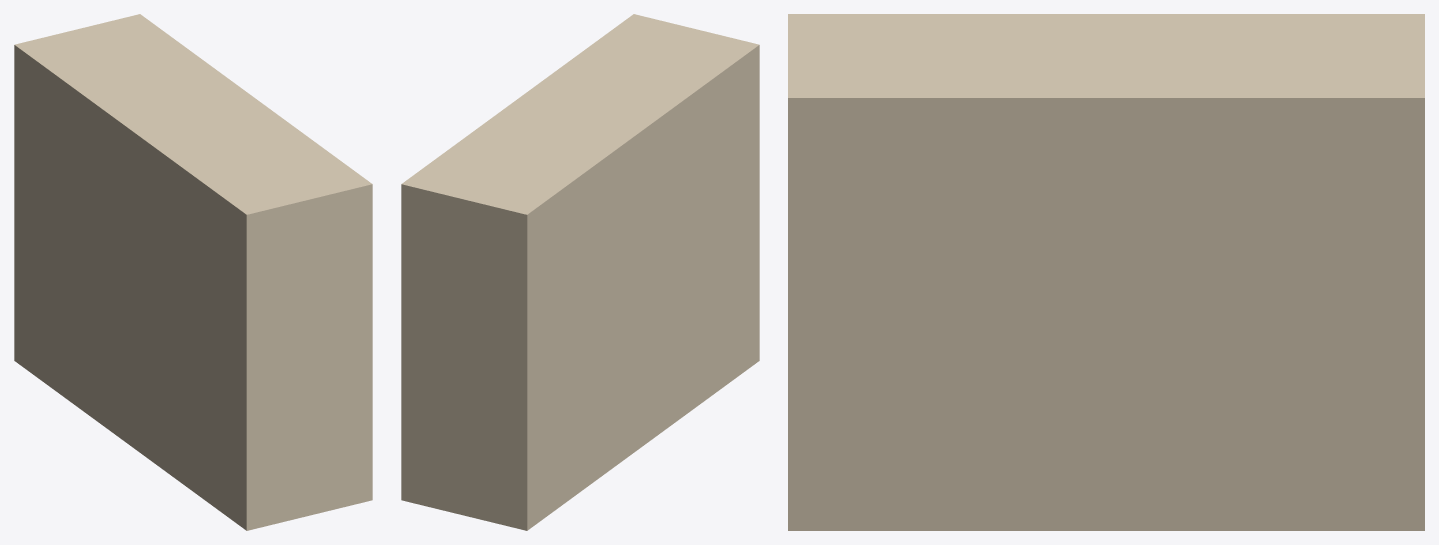
The model's file is divider.glb.
The picture shows the model from 3 angles, left to right: view 1: azimuth 30°, elevation 25°; view 2: azimuth 150°, elevation 25°; view 3: azimuth 270°, elevation 25°; orthographic projection. The views are drawn at different scales.
Parts seen in each view (by area): view 1: REF-L02-R01-divider-part-1; view 2: REF-L02-R01-divider-part-1; view 3: REF-L02-R01-divider-part-1.
Boxes of the visible parts, x1,y1,x2,y2 form: REF-L02-R01-divider-part-1: (14, 14, 372, 530); REF-L02-R01-divider-part-1: (401, 14, 759, 530); REF-L02-R01-divider-part-1: (788, 14, 1424, 530).
Size of the model in its own units: 0.1 by 0.24 by 0.32.
